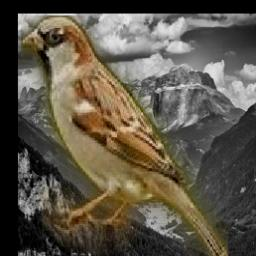Sparrow: (22, 15, 229, 256)
